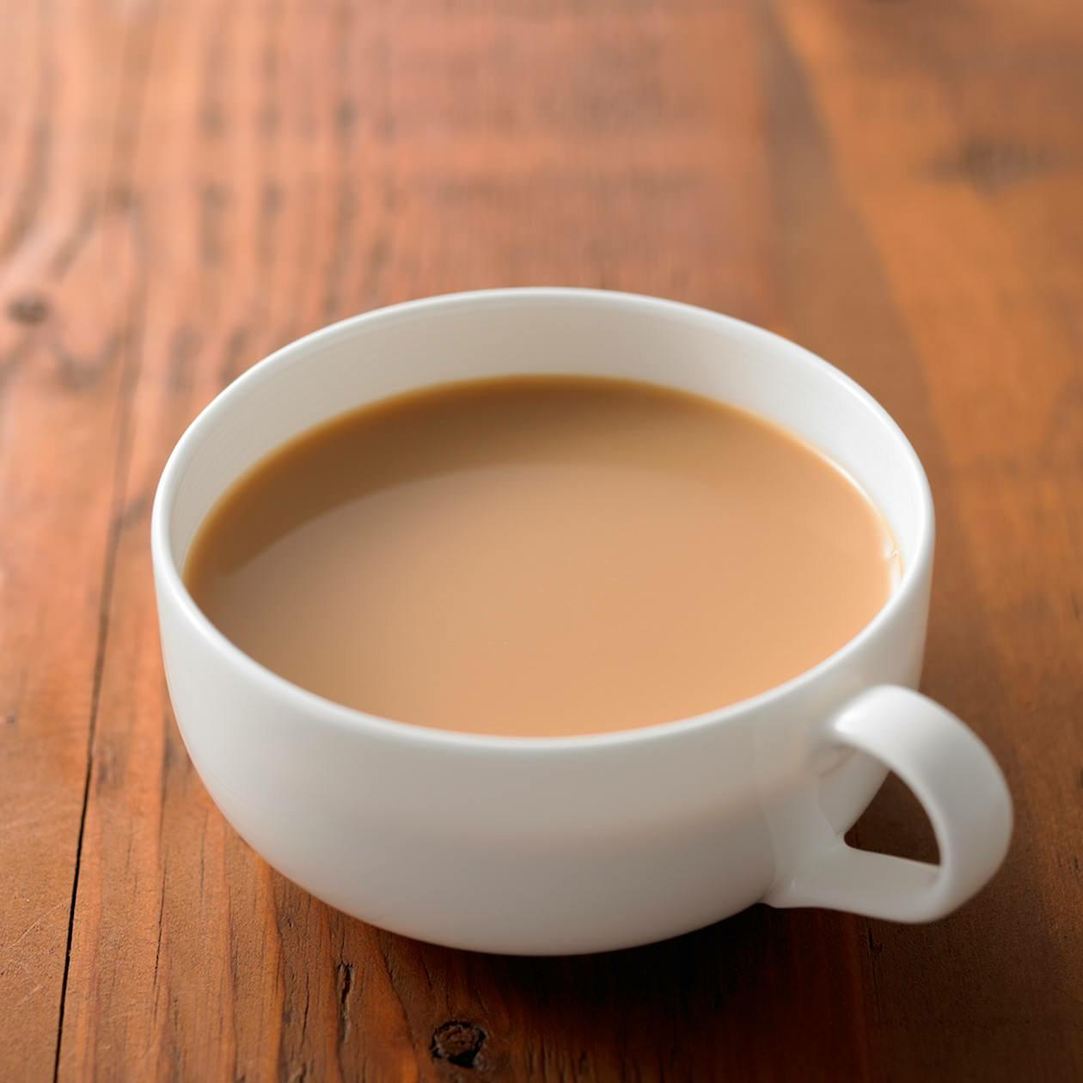Chai: (188, 376, 889, 737)
